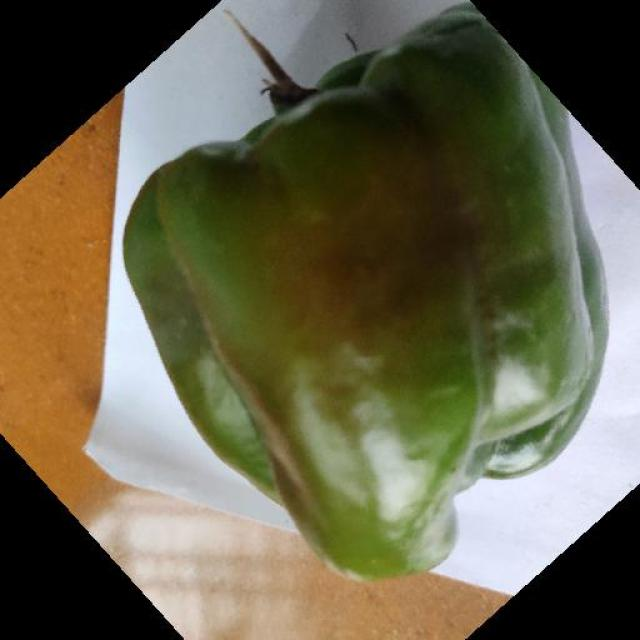Stale_Capsicum: (114, 86, 604, 548)
